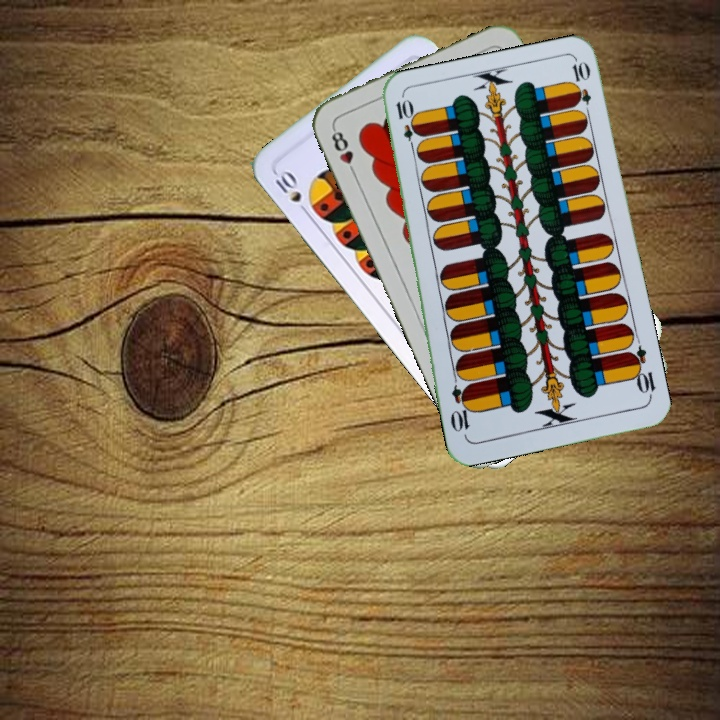E10: (624, 343, 658, 401), (391, 96, 419, 155)
H8: (327, 123, 360, 179)
S10: (270, 165, 312, 219)
